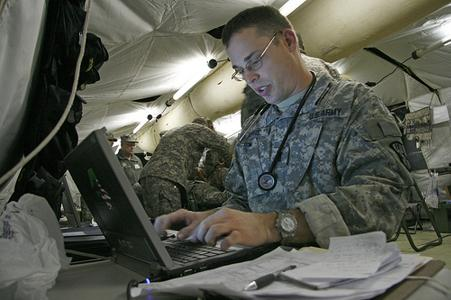person: (156, 7, 414, 253)
